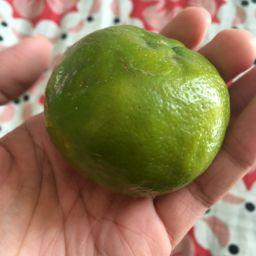Unripe: (43, 24, 231, 197)
